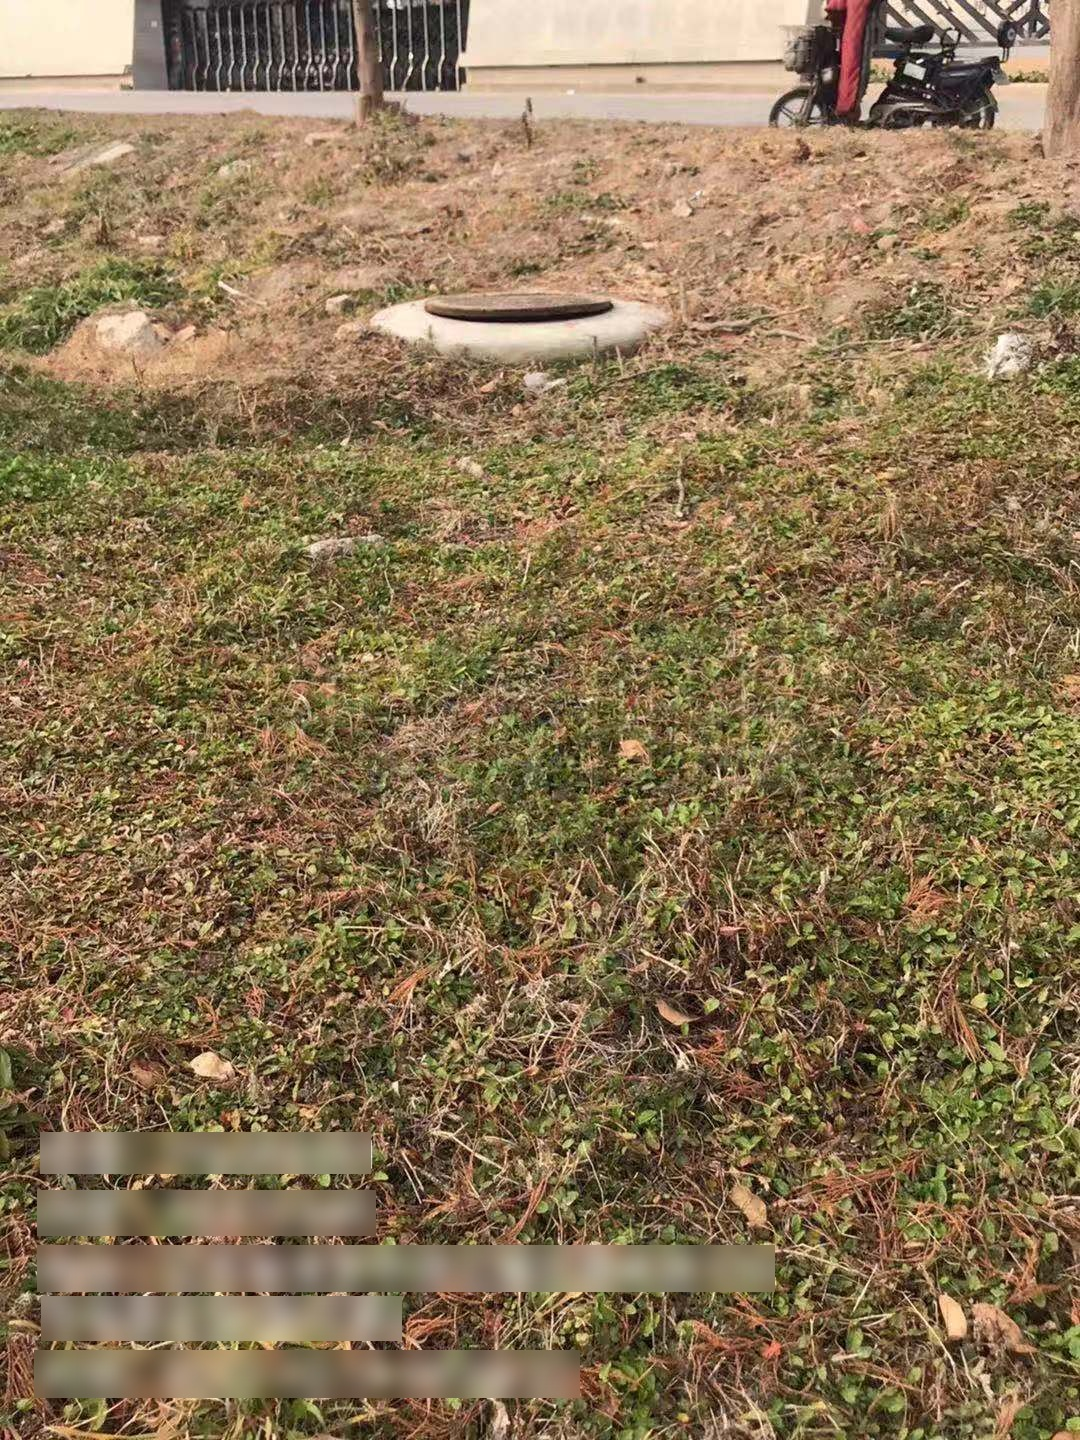uncovered: (422, 294, 613, 328)
